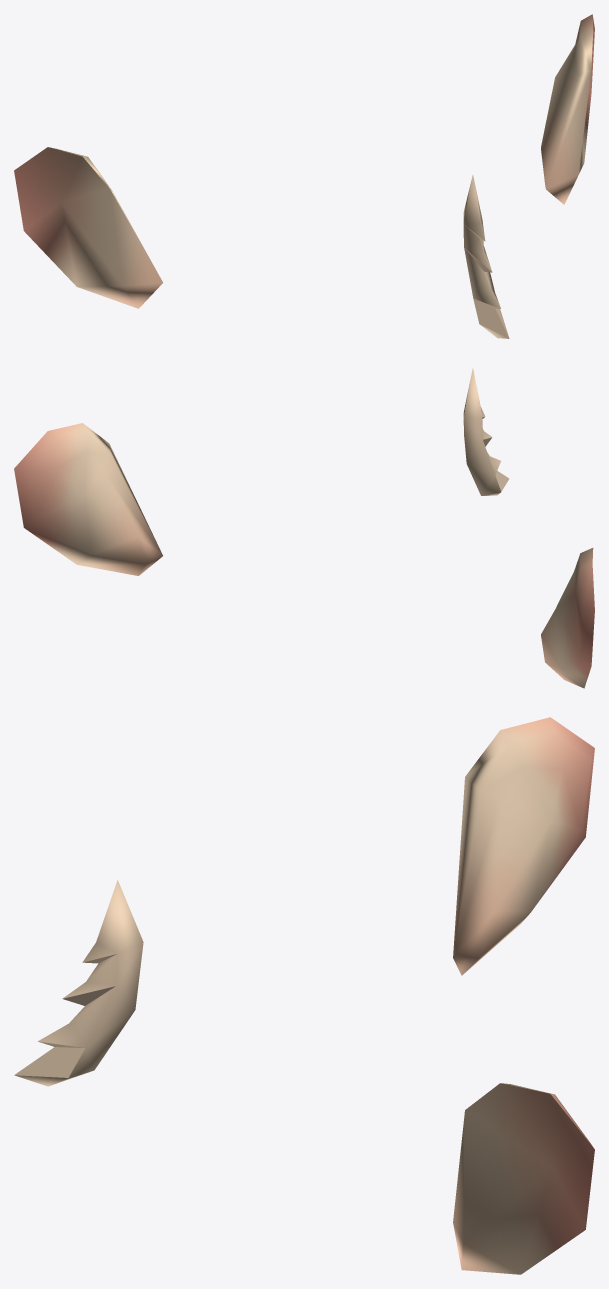
Rendered from FacePlusSet_test.fbx.
3 views of the same model, one above another, from view 1: azimuth 30°, elevation 25°; view 2: azimuth 150°, elevation 25°; view 3: azimuth 270°, elevation 25° (orthographic). The views are drawn at different scales.
Parts seen in each view (by area): view 1: HumanEar, noseHair; view 2: HumanEar, noseHair; view 3: HumanEar, noseHair.
Part boxes in pixels (left/top/right/bottom): HumanEar: left=14, top=14, right=594, bottom=308; noseHair: left=463, top=175, right=509, bottom=338; HumanEar: left=14, top=423, right=594, bottom=688; noseHair: left=463, top=368, right=509, bottom=495; HumanEar: left=453, top=717, right=594, bottom=1274; noseHair: left=14, top=880, right=143, bottom=1086.
Size of the model in its own units: 4.31 by 1.22 by 2.63.
